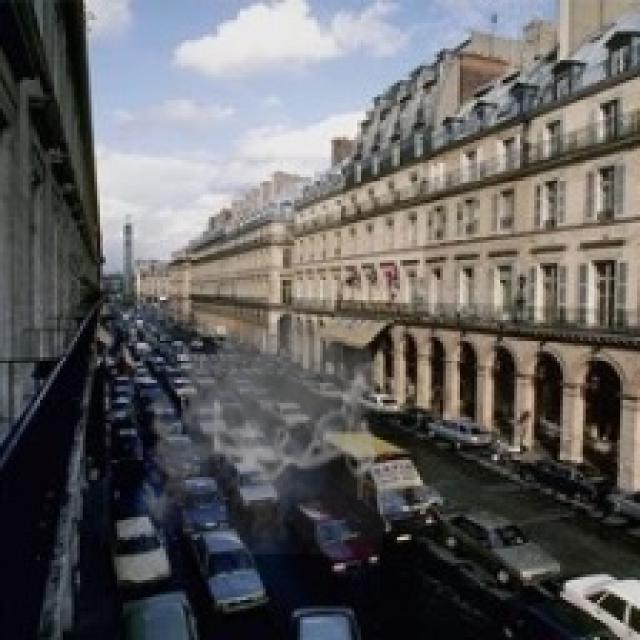Smoke: (134, 294, 386, 554)
